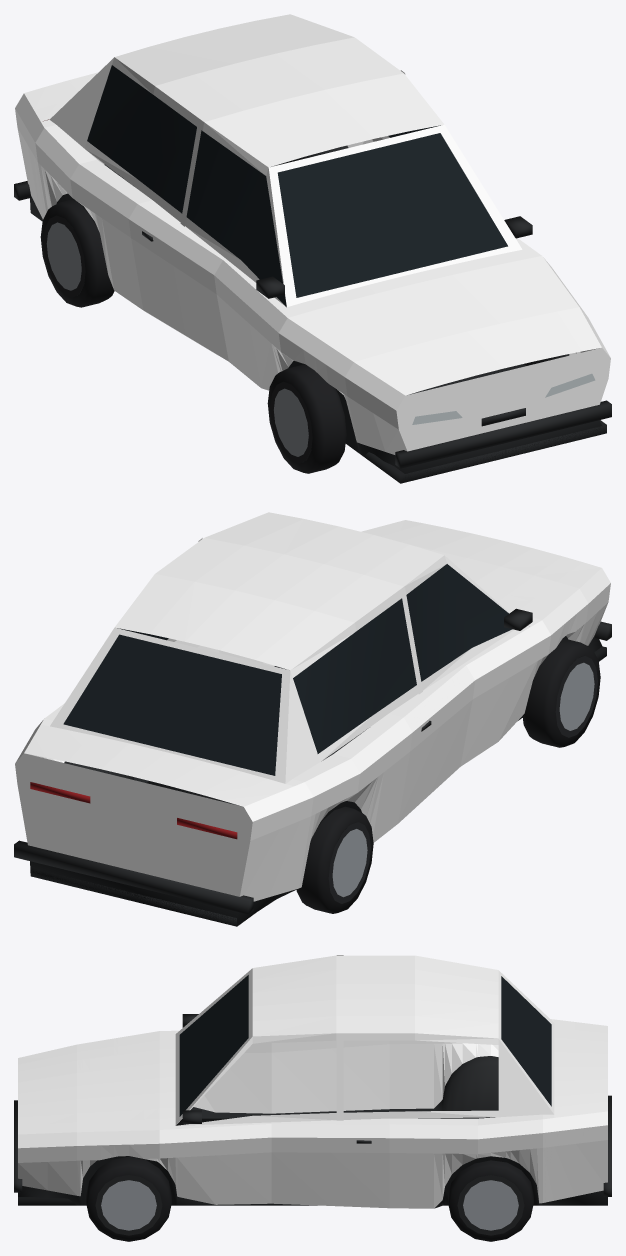
File: hozuki_lince.glb
The picture shows the model from 3 angles, top to bottom: view 1: azimuth 30°, elevation 25°; view 2: azimuth 150°, elevation 25°; view 3: azimuth 270°, elevation 25°; orthographic projection. The views are drawn at different scales.
Visible parts, largest first — view 1: Body_Paint, Body_Details, Mount_FrontLeft_Wheel_Details, Mount_RearLeft_Wheel_Details; view 2: Body_Paint, Body_Details, Mount_FrontLeft_Wheel_Details, Mount_RearLeft_Wheel_Details; view 3: Body_Paint, Body_Details, Mount_FrontRight_Wheel_Details, Mount_RearRight_Wheel_Details.
Boxes of the visible parts, <box> form: Body_Paint: <box>15,14,610,454</box>; Body_Details: <box>14,65,611,483</box>; Mount_FrontLeft_Wheel_Details: <box>267,364,346,473</box>; Mount_RearLeft_Wheel_Details: <box>40,199,114,307</box>; Body_Paint: <box>15,512,610,901</box>; Body_Details: <box>14,564,611,926</box>; Mount_FrontLeft_Wheel_Details: <box>522,638,600,747</box>; Mount_RearLeft_Wheel_Details: <box>296,806,373,913</box>; Body_Paint: <box>18,955,607,1208</box>; Body_Details: <box>14,975,611,1208</box>; Mount_FrontRight_Wheel_Details: <box>86,1156,171,1241</box>; Mount_RearRight_Wheel_Details: <box>448,1160,533,1241</box>.
Size of the model in its own units: 1.77 by 1.44 by 3.96.
2 materials, 1 textured.
